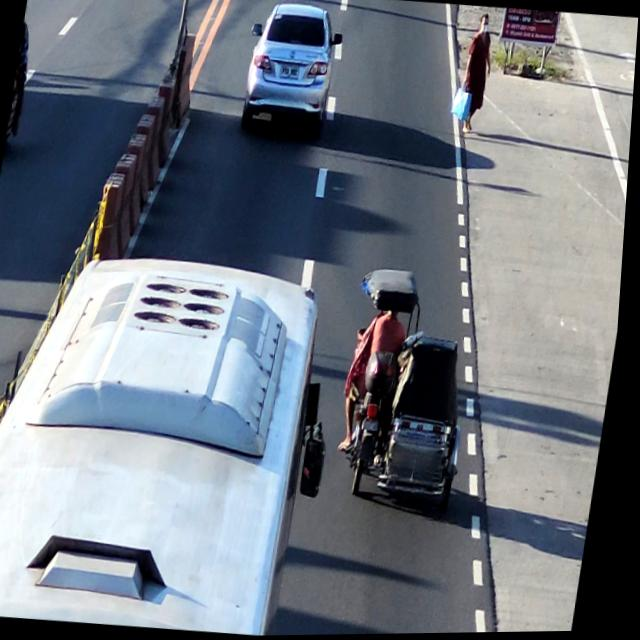Bus: (0, 244, 360, 640)
Car: (234, 1, 346, 143)
License-Plate: (278, 63, 300, 83)
Tricycle: (333, 263, 494, 517)
